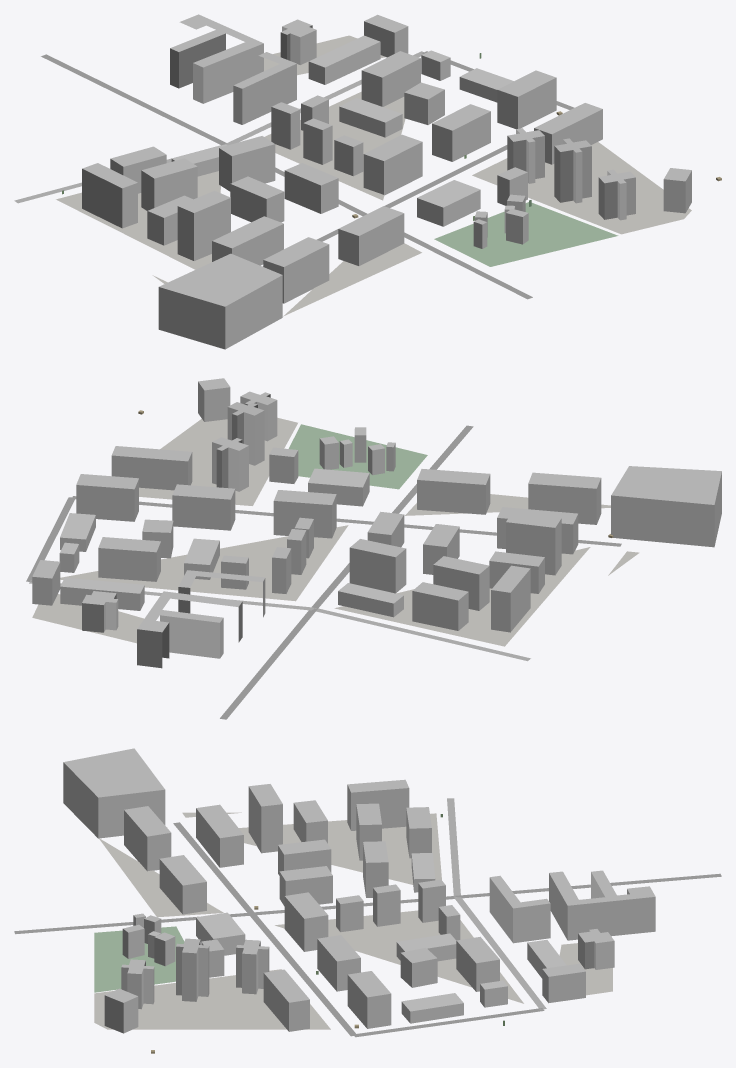
3 views of the same model, one above another, from view 1: azimuth 30°, elevation 25°; view 2: azimuth 150°, elevation 25°; view 3: azimuth 270°, elevation 25° (orthographic). The views are drawn at different scales.
Size of the model in its own units: 610 by 54.5 by 682.
